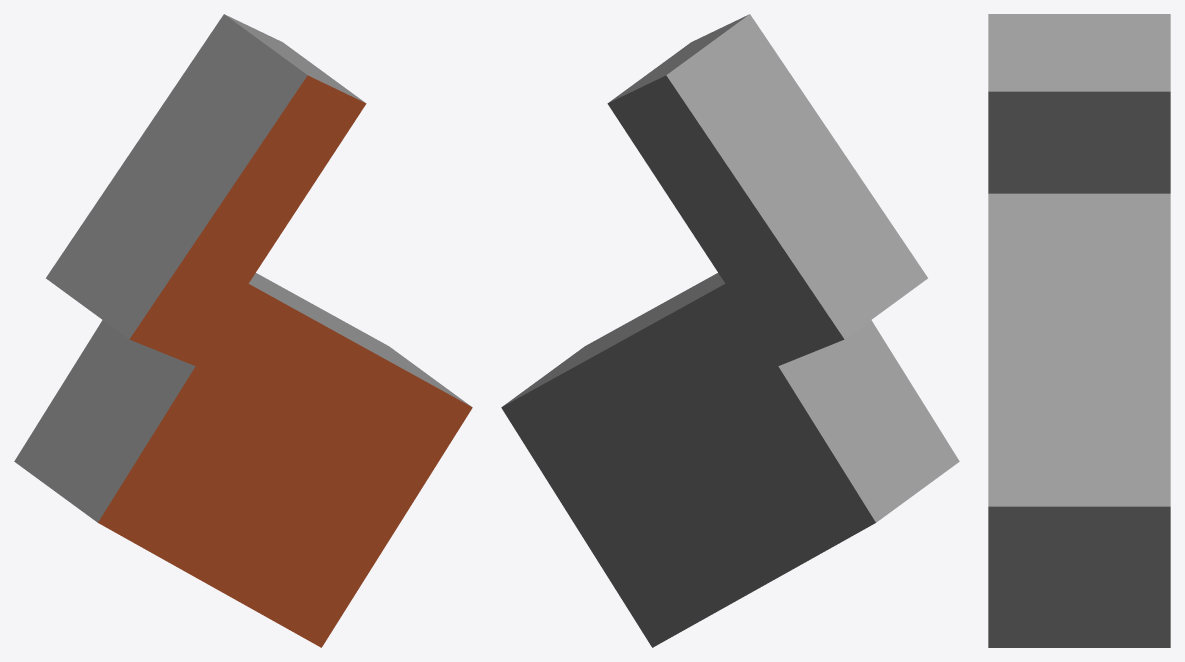
File: construction_0318_assumed_A_Casa_h6m.obj
3 renders of one model, left to right at view 1: azimuth 30°, elevation 25°; view 2: azimuth 150°, elevation 25°; view 3: azimuth 270°, elevation 25°, orthographic. The views are drawn at different scales.
Parts seen in each view (by area): view 1: construction_0318_assumed_A_Casa; view 2: construction_0318_assumed_A_Casa; view 3: construction_0318_assumed_A_Casa.
Boxes of the visible parts, box(x1,y1,x2,y2) form: construction_0318_assumed_A_Casa: box(14, 14, 472, 647); construction_0318_assumed_A_Casa: box(501, 14, 959, 647); construction_0318_assumed_A_Casa: box(988, 14, 1170, 647).
Size of the model in its own units: 15.51 by 22.77 by 6.
